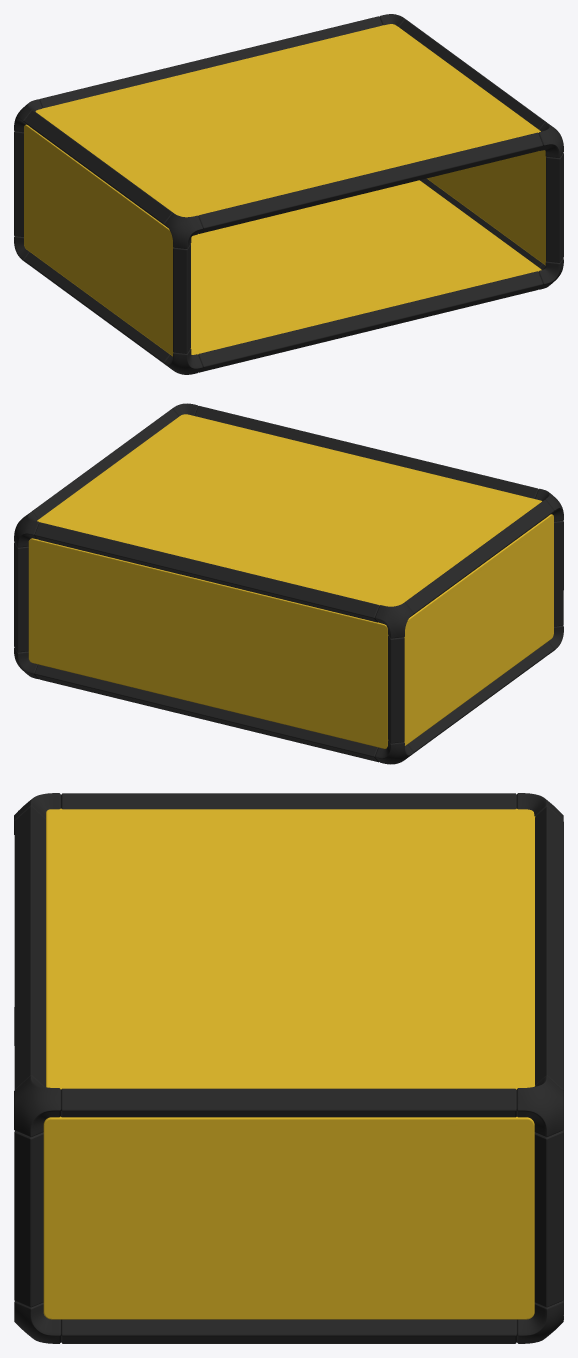
3 views of the same model, one above another, from view 1: azimuth 30°, elevation 25°; view 2: azimuth 150°, elevation 25°; view 3: azimuth 270°, elevation 25° (orthographic). The views are drawn at different scales.
Visible parts, largest first — view 1: 523x374x154; view 2: 523x374x154; view 3: 523x374x154.
Boxes of the visible parts, x1,y1,x2,y2 form: 523x374x154: (14, 14, 563, 374); 523x374x154: (14, 403, 563, 764); 523x374x154: (14, 793, 563, 1343).
Size of the model in its own units: 0.6007 by 0.2316 by 0.4513.
